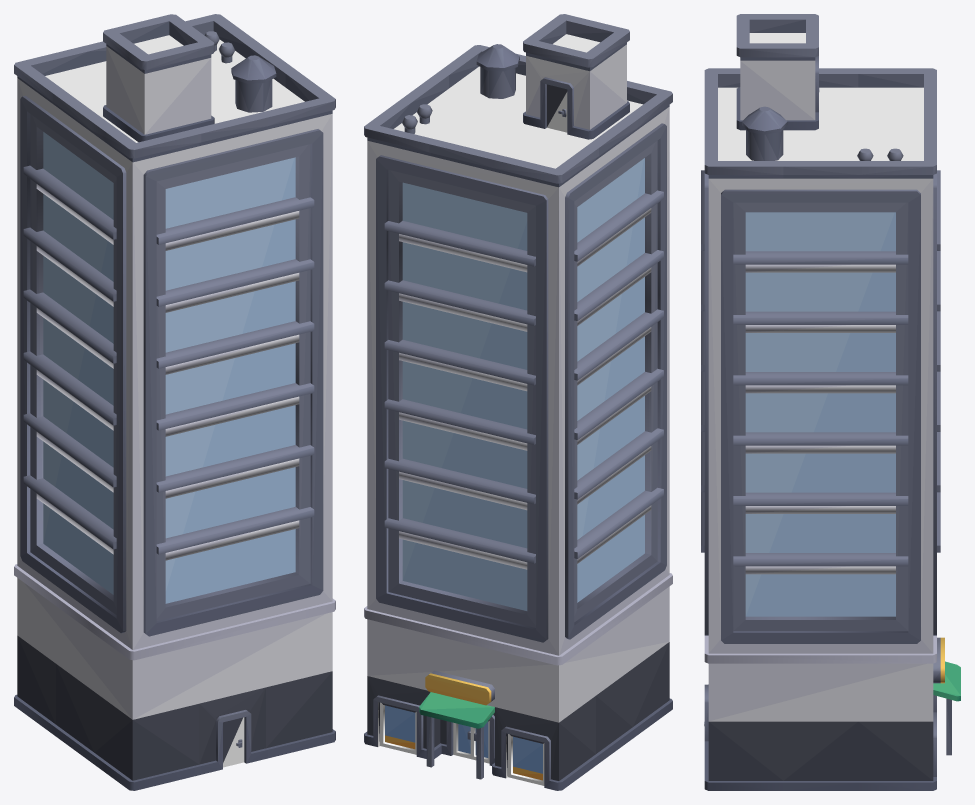
The model's file is building-skyscraper-c.obj.
The picture shows the model from 3 angles, left to right: view 1: azimuth 30°, elevation 25°; view 2: azimuth 150°, elevation 25°; view 3: azimuth 270°, elevation 25°; orthographic projection. The views are drawn at different scales.
Size of the model in its own units: 1.28 by 4.08 by 1.39.
